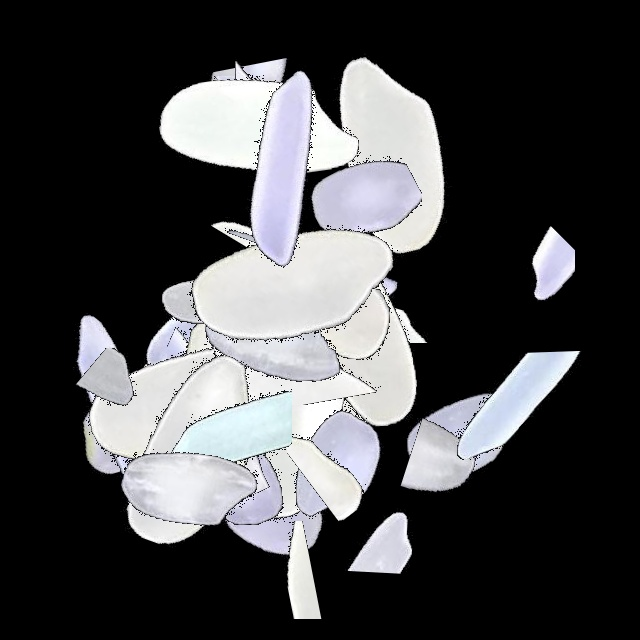Broken: (251, 90, 422, 340), (378, 351, 546, 601), (110, 322, 276, 572), (127, 295, 292, 545), (82, 351, 332, 508), (445, 305, 600, 555), (158, 127, 307, 377), (173, 271, 423, 413), (139, 310, 281, 560), (171, 267, 421, 405), (199, 0, 323, 250), (308, 386, 430, 636), (343, 410, 593, 528), (247, 226, 497, 343), (6, 348, 256, 460), (162, 262, 270, 512), (113, 318, 219, 568), (163, 40, 413, 144), (105, 76, 355, 179), (304, 242, 405, 492), (198, 186, 448, 285), (136, 521, 386, 619), (167, 229, 257, 479), (259, 241, 343, 491), (493, 143, 575, 393), (204, 71, 284, 321), (180, 289, 430, 368), (287, 314, 366, 564)
Full: (102, 190, 352, 440), (5, 301, 255, 551), (138, 382, 388, 632), (126, 251, 376, 501), (222, 205, 472, 455), (168, 197, 418, 447), (0, 294, 250, 544), (154, 230, 404, 480), (71, 267, 321, 517), (169, 155, 419, 405), (262, 30, 512, 280), (107, 238, 357, 488), (226, 205, 476, 455), (156, 293, 406, 543), (207, 342, 457, 592), (68, 278, 318, 528), (111, 349, 361, 599), (147, 210, 397, 460), (73, 328, 323, 578), (164, 153, 414, 403), (133, 0, 383, 250), (163, 47, 413, 297)
